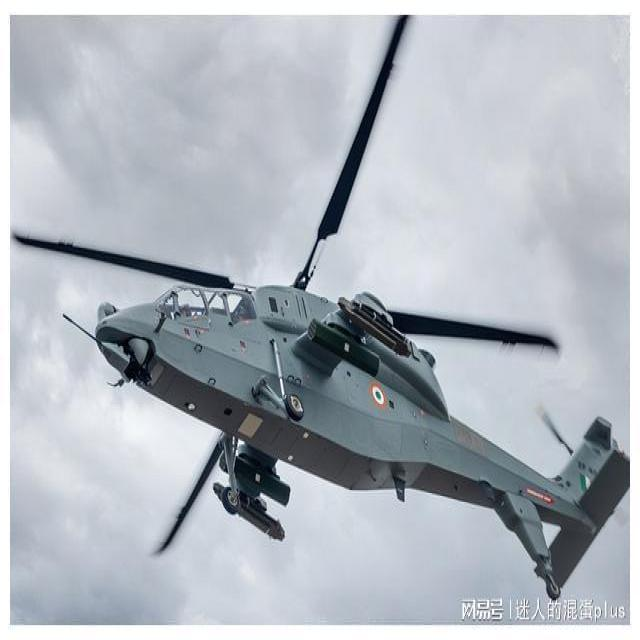MIL_HELO: (29, 4, 640, 602)
